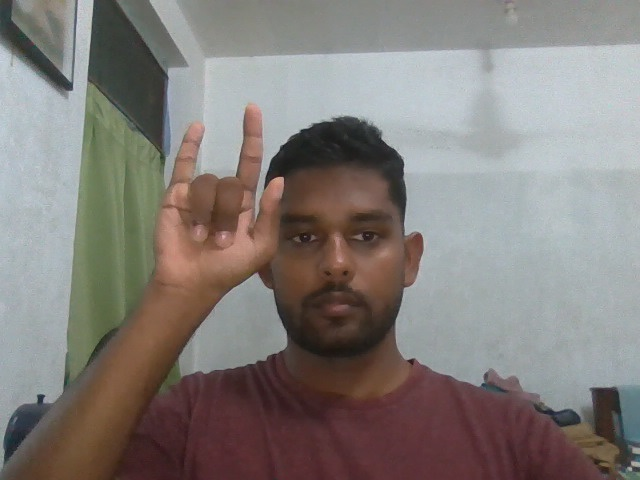hello: (120, 96, 286, 311)
